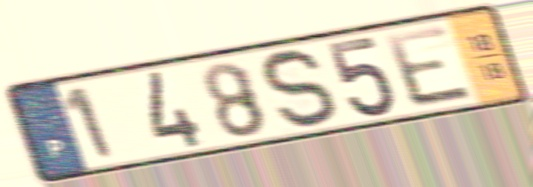1: (62, 83, 117, 161)
4: (148, 68, 204, 152)
5: (321, 32, 399, 120)
8: (201, 60, 269, 141)
E: (379, 22, 478, 111)
S: (259, 46, 340, 134)
